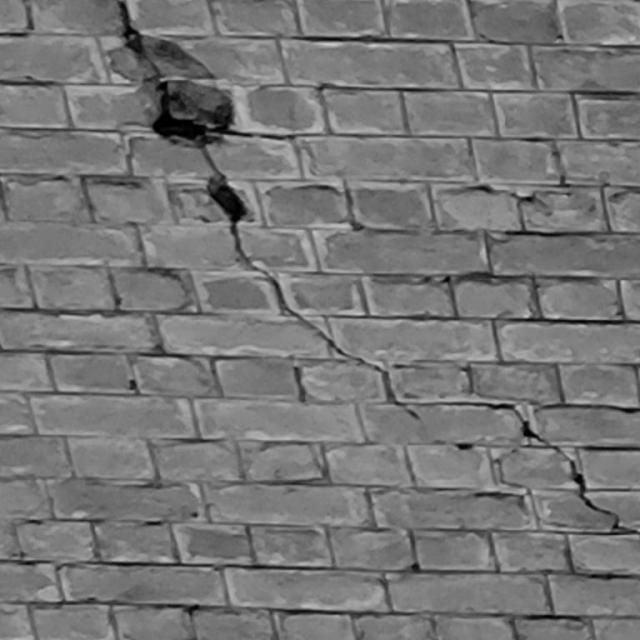crack: (118, 1, 422, 420), (481, 403, 640, 534)
